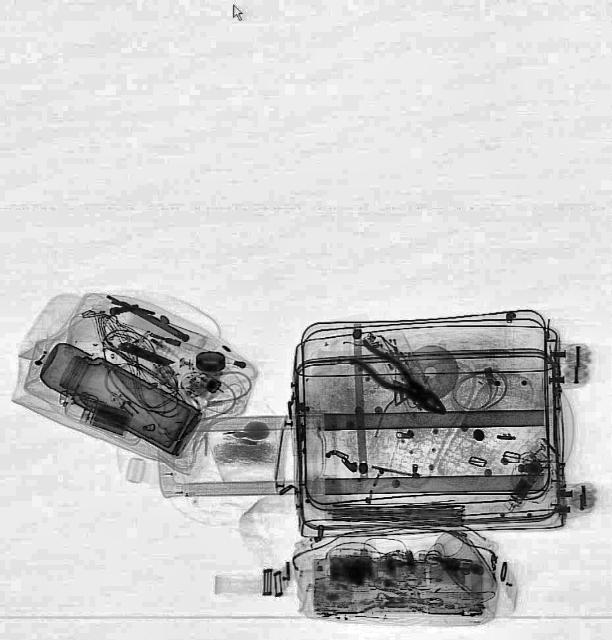Pliers: (346, 336, 456, 426)
